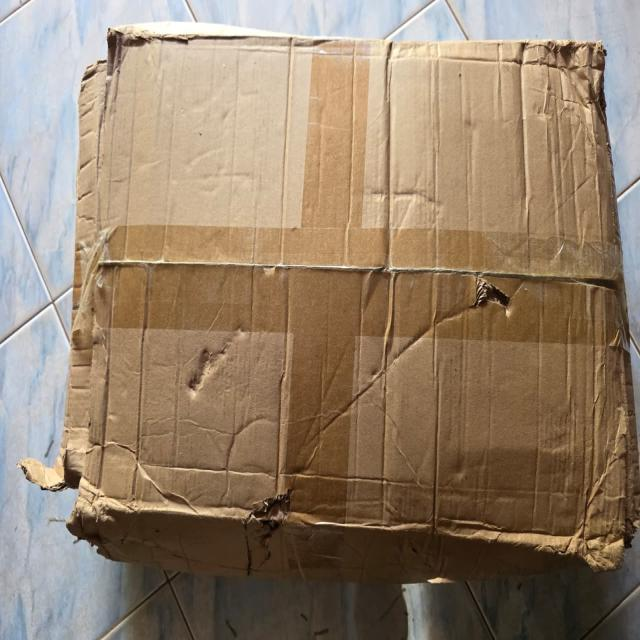carton_box: (10, 11, 640, 617)
package_damage: (13, 348, 170, 580), (568, 387, 640, 591), (58, 11, 172, 115), (552, 243, 640, 365), (531, 19, 627, 115), (175, 318, 262, 404), (232, 472, 321, 554), (464, 264, 534, 335)
